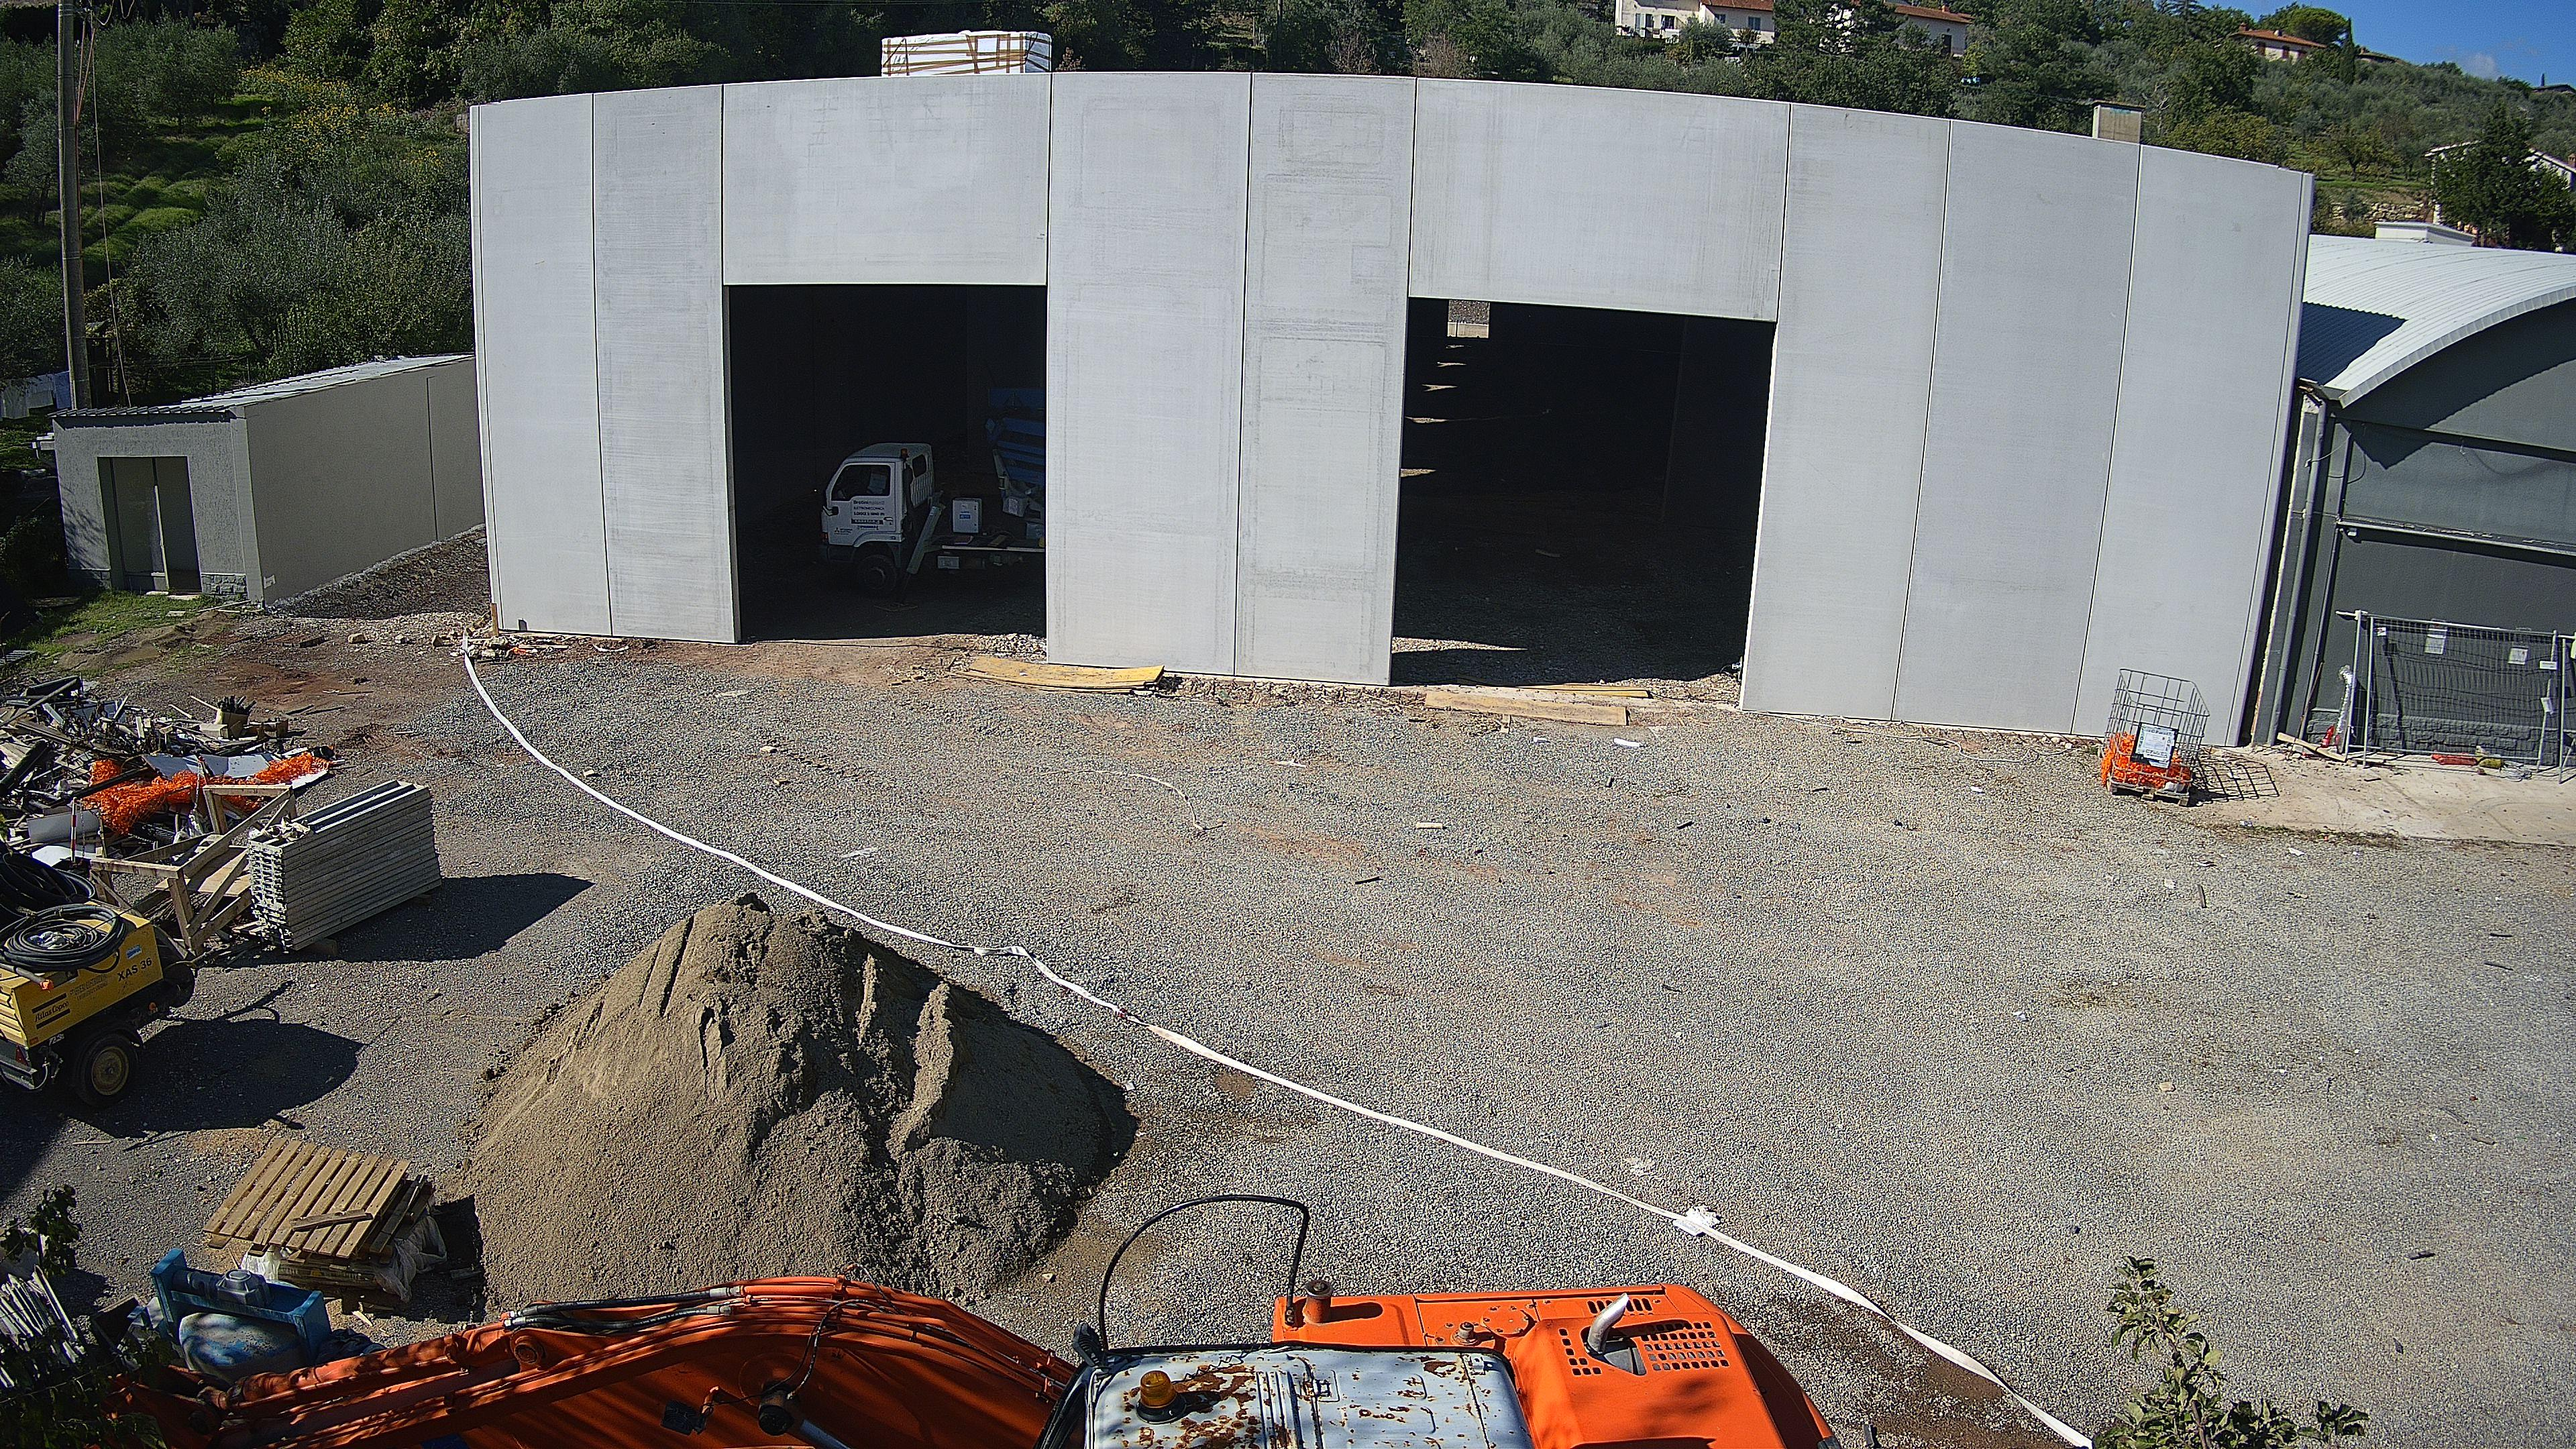Aerial platforms: (811, 387, 1048, 600)
excavator: (0, 1191, 1835, 1449)
